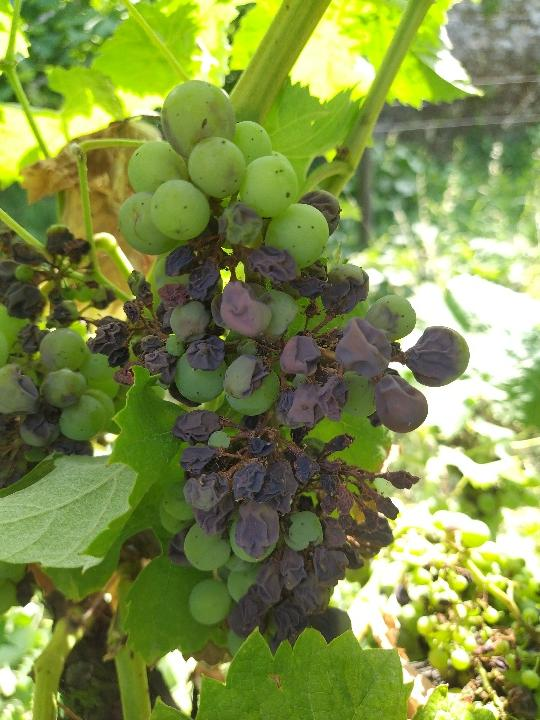grape: (83, 75, 472, 659)
